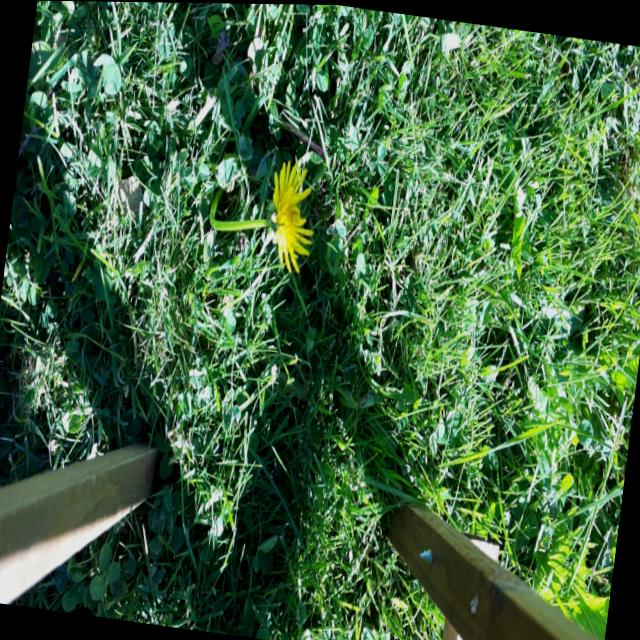base: (270, 103, 298, 147), (208, 173, 232, 206)
flower: (262, 161, 318, 270)
